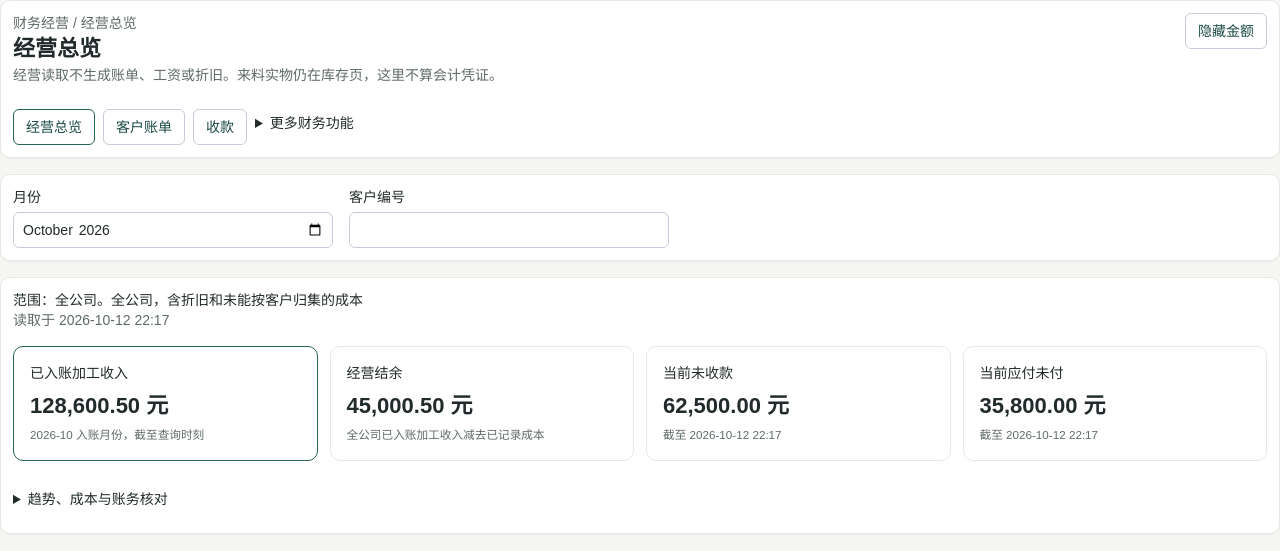
Test: FinanceWorkspace › 财务账单切客户立即撤下旧结果，迟到的另一客户结果不回写
Click the button "客户账单" at (144, 128), box [103,110,185,146]
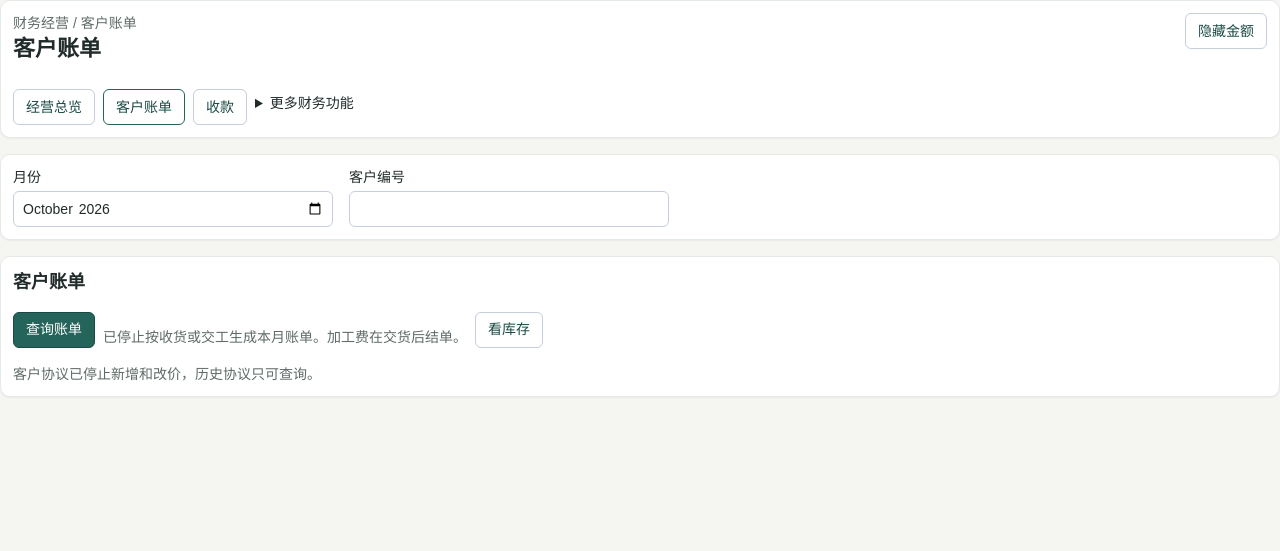
Type "1001" into the field named "客户编号" at (509, 210), box [349,192,669,228]
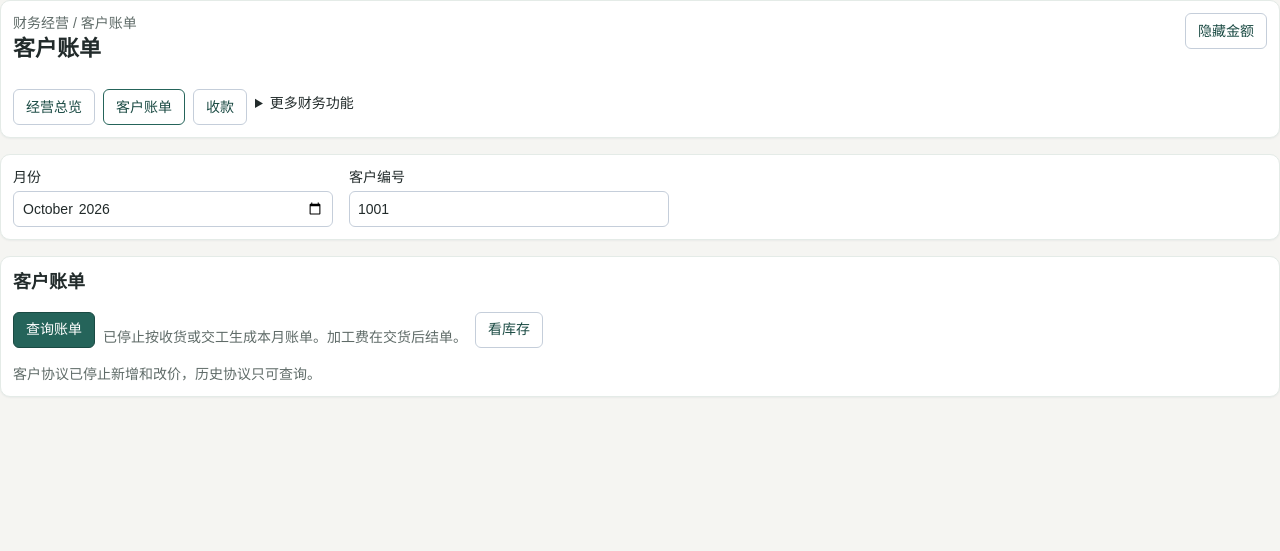
Click the button "查询账单" at (54, 330), box [13,312,95,348]
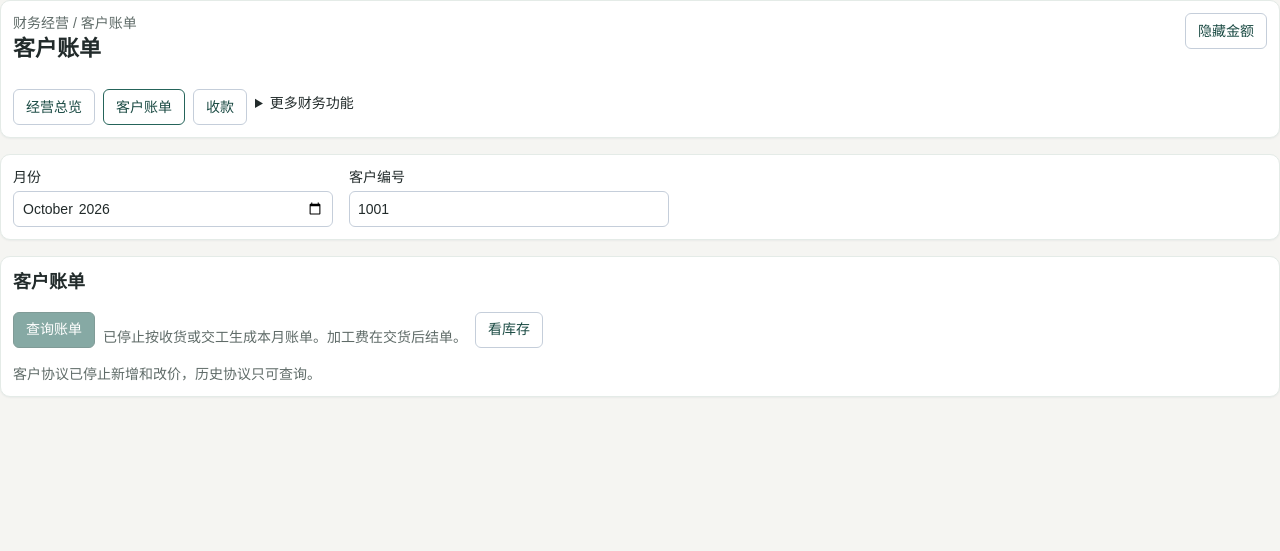
Replace the text in the field named "客户编号" with "1002" at (509, 210), box [349,192,669,228]
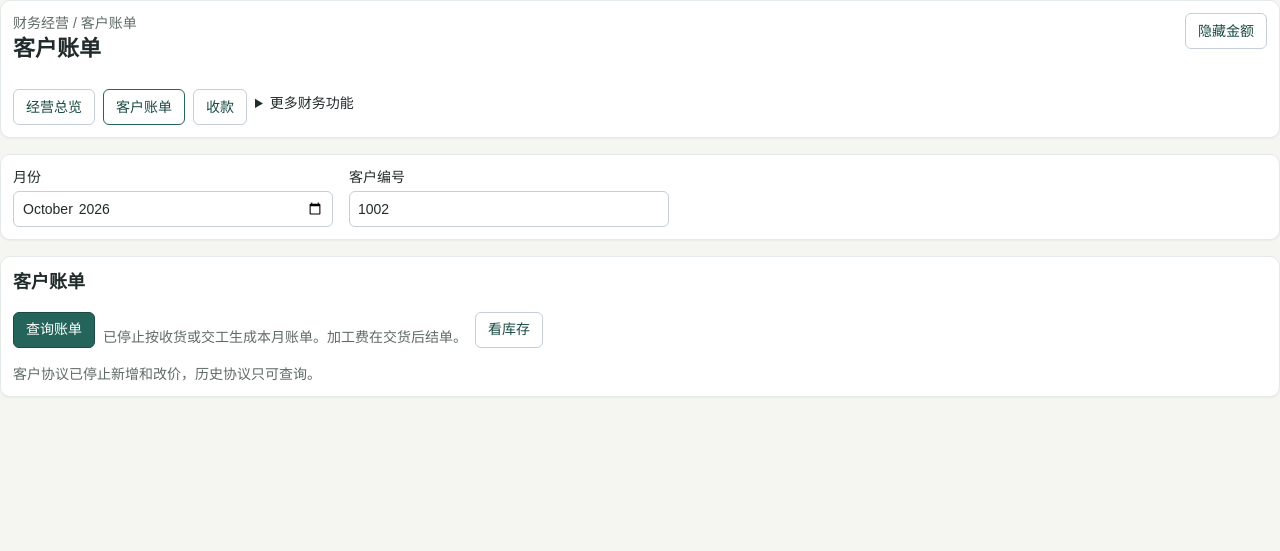
Click the button "查询账单" at (54, 330), box [13,312,95,348]
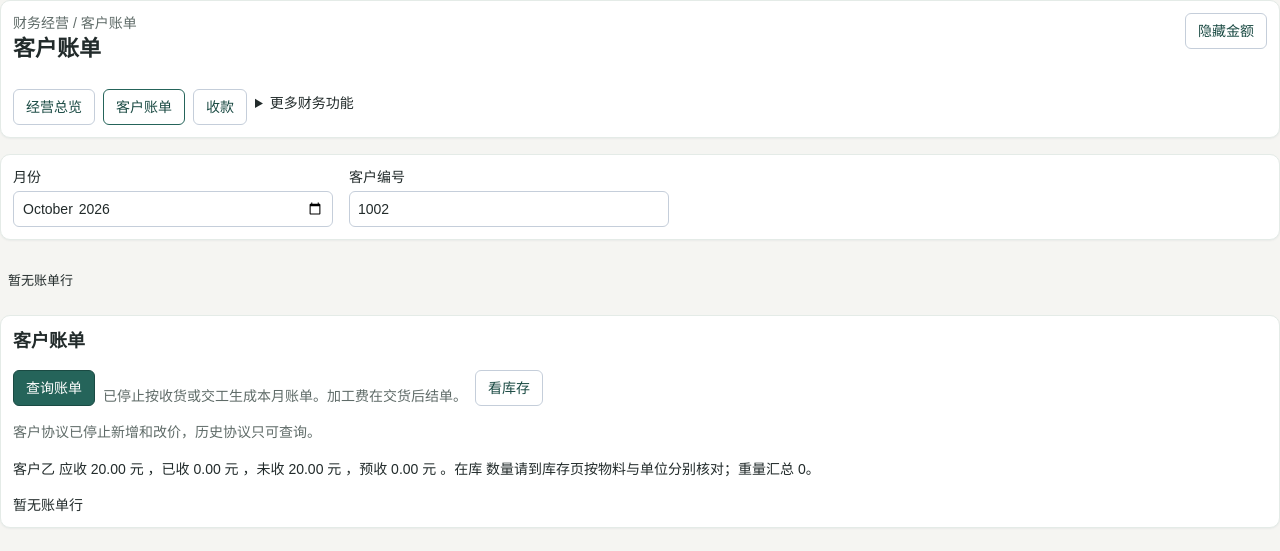
Expected: the text "客户乙" is shown, [13,461,820,477]
Expected: the text "按物料与单位分别核对" is shown, [13,461,820,477]
